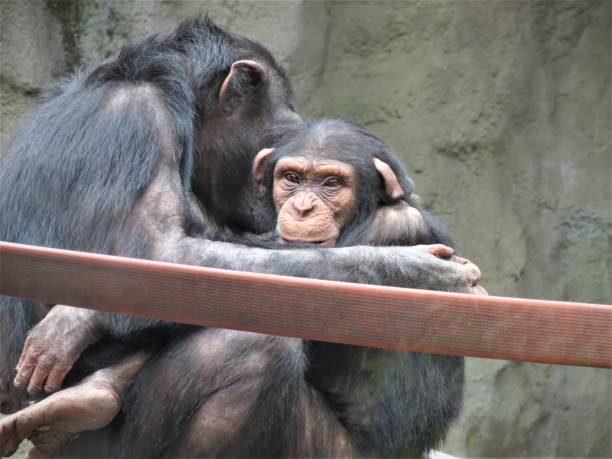chimpanzee: (246, 116, 425, 273)
